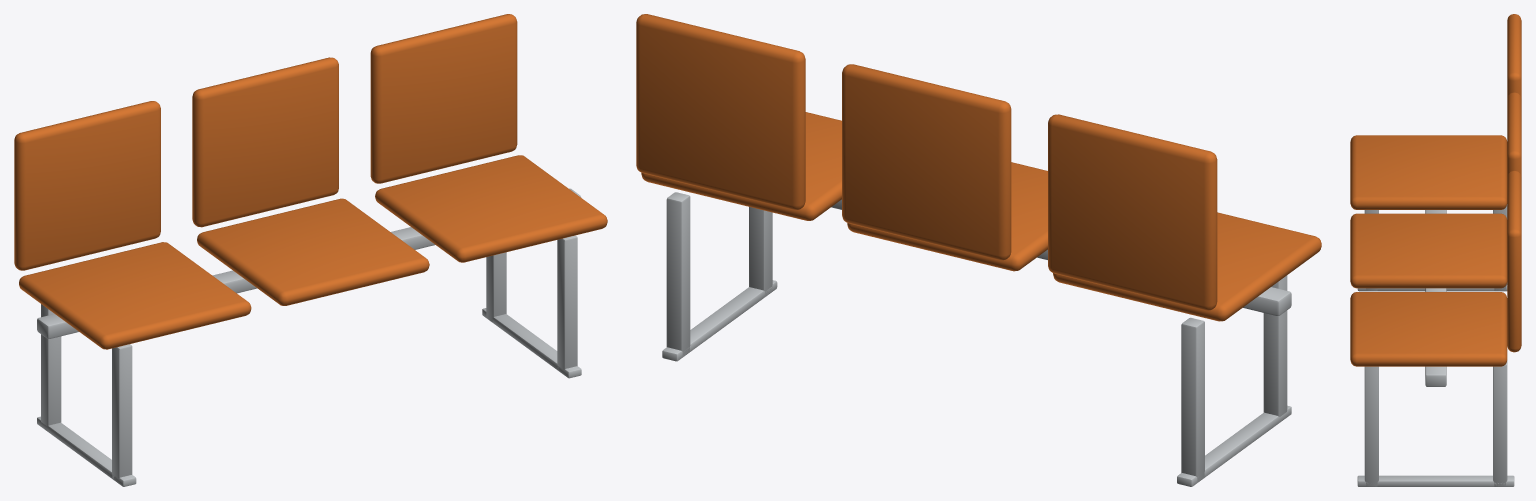
The model's file is mae_waiting_chairs.glb.
3 views of the same model, side by side, from view 1: azimuth 30°, elevation 25°; view 2: azimuth 150°, elevation 25°; view 3: azimuth 270°, elevation 25° (orthographic). The views are drawn at different scales.
Visible parts, largest first — view 1: mae_waiting_chairs; view 2: mae_waiting_chairs; view 3: mae_waiting_chairs.
Part boxes in pixels (x1,y1,x2,y2): mae_waiting_chairs: (14,14,607,486); mae_waiting_chairs: (636,14,1321,486); mae_waiting_chairs: (1350,14,1521,486).
Size of the model in its own units: 1.56 by 0.82 by 0.48.
